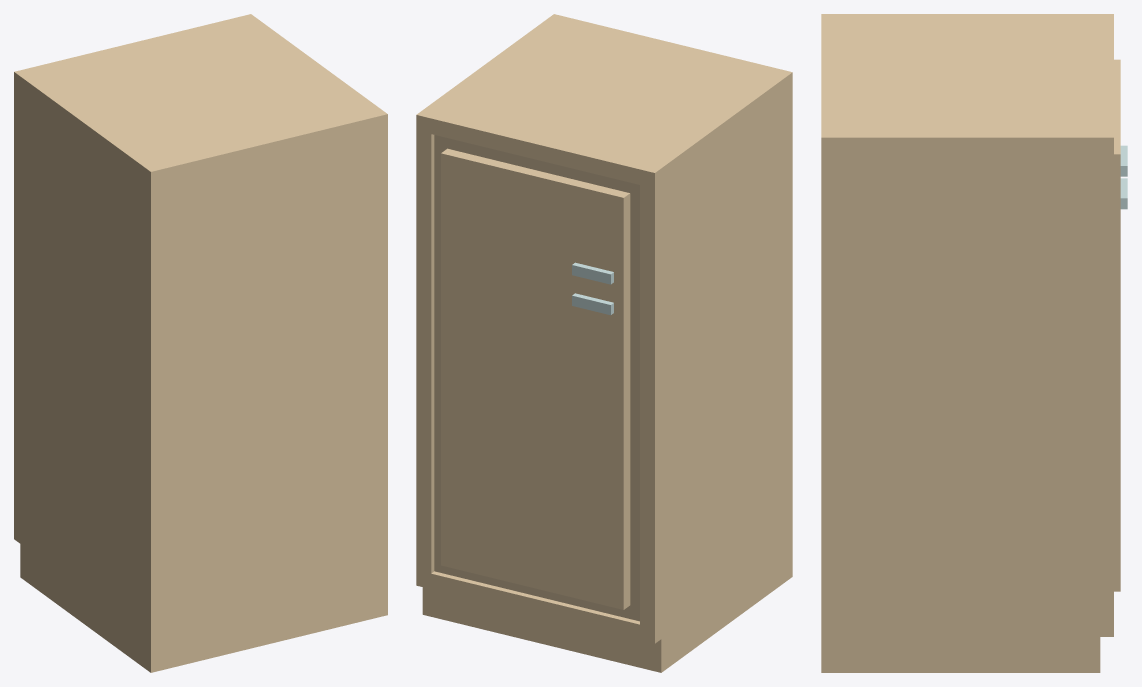
Rendered from kitchenFridgeBuiltIn.glb.
3 views of the same model, side by side, from view 1: azimuth 30°, elevation 25°; view 2: azimuth 150°, elevation 25°; view 3: azimuth 270°, elevation 25° (orthographic). The views are drawn at different scales.
Parts seen in each view (by area): view 1: kitchenFridgeBuiltIn; view 2: kitchenFridgeBuiltIn; view 3: kitchenFridgeBuiltIn.
Boxes of the visible parts, x1,y1,x2,y2 form: kitchenFridgeBuiltIn: [14, 14, 387, 672]; kitchenFridgeBuiltIn: [416, 14, 792, 672]; kitchenFridgeBuiltIn: [821, 14, 1127, 672].
Size of the model in its own units: 4.3 by 8.69 by 4.5.
